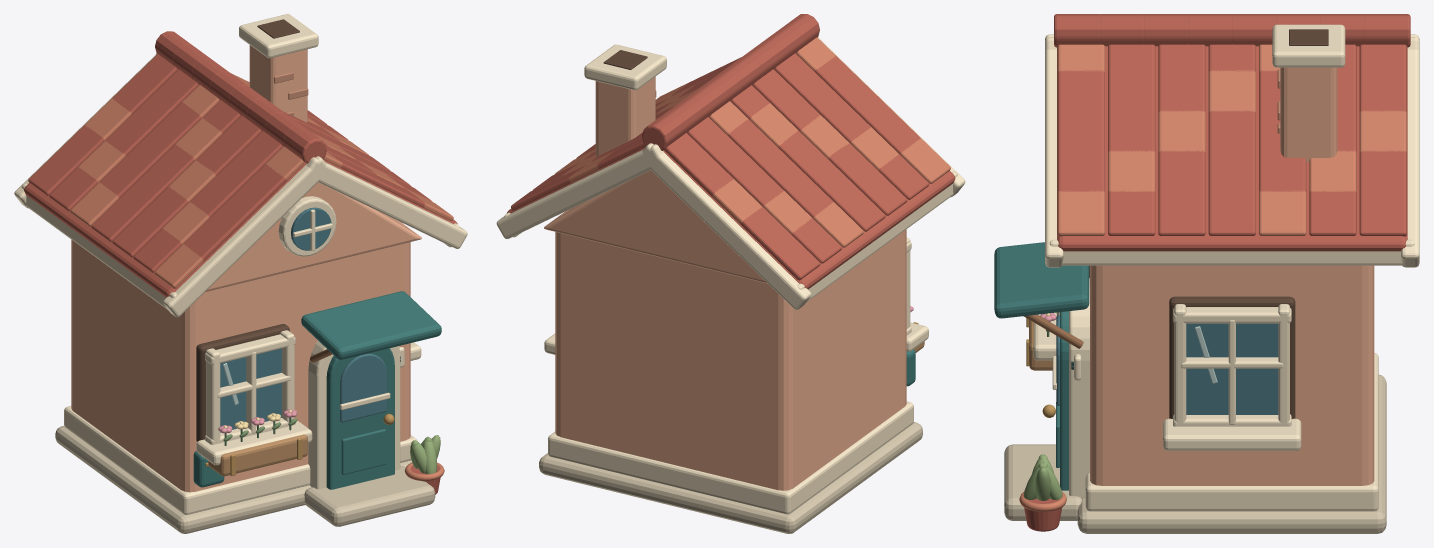
Rendered from house.glb.
3 views of the same model, side by side, from view 1: azimuth 30°, elevation 25°; view 2: azimuth 150°, elevation 25°; view 3: azimuth 270°, elevation 25° (orthographic). The views are drawn at different scales.
Parts seen in each view (by area): view 1: Wall • plaster shell, Gable • plaster triangle, Porch • little canopy, Wall • lower skirting, Foundation • rounded stone plinth, Door • inset painted panel, Roof • cream bargeboard, Door • doorstep, Roof • cream bargeboard.002, Door • stone arch, Chimney • plaster stack, House front window painted glass (+60 smaller); view 2: Wall • plaster shell, Gable • plaster triangle, Wall • lower skirting, Foundation • rounded stone plinth, Roof • cream bargeboard.001, Roof • cream bargeboard.003, Chimney • plaster stack, Roof • thick slope, Chimney • cap, Roof • eave fascia, Roof • shingle -1 4 6, Roof • shingle -1 4 4 (+41 smaller); view 3: Wall • plaster shell, Roof • thick slope.001, Wall • lower skirting, Foundation • rounded stone plinth, House side window painted glass, Porch • little canopy, Chimney • plaster stack, Roof • eave fascia.001, House side window stone sill, Door • stone arch, Roof • cream bargeboard.003, Door • doorstep (+54 smaller).
Part boxes in pixels (x1,y1,x2,y2): Wall • plaster shell: (71,220,410,492); Gable • plaster triangle: (205,182,421,291); Porch • little canopy: (301,291,441,359); Wall • lower skirting: (64,406,417,514); Foundation • rounded stone plinth: (55,426,411,533); Door • inset painted panel: (326,348,394,489); Roof • cream bargeboard: (163,156,327,317); Door • doorstep: (304,466,435,526); Roof • cream bargeboard.002: (306,157,467,248); Door • stone arch: (308,340,400,489); Chimney • plaster stack: (249,45,307,122); House front window painted glass: (220,348,281,432); Wall • plaster shell: (555,210,906,490); Gable • plaster triangle: (544,170,767,283); Wall • lower skirting: (548,401,913,514); Foundation • rounded stone plinth: (539,422,922,533); Roof • cream bargeboard.001: (641,143,811,309); Roof • cream bargeboard.003: (496,144,663,238); Chimney • plaster stack: (595,76,655,156); Roof • thick slope: (663,150,955,289); Chimney • cap: (584,44,666,90); Roof • eave fascia: (797,171,957,302); Roof • shingle -1 4 6: (769,234,820,280); Roof • shingle -1 4 4: (813,202,863,247); Wall • plaster shell: (1090,265,1374,485); Roof • thick slope.001: (1057,46,1407,251); Wall • lower skirting: (1085,353,1378,511); Foundation • rounded stone plinth: (1077,374,1386,533); House side window painted glass: (1186,323,1278,414); Porch • little canopy: (994,242,1089,318); Chimney • plaster stack: (1280,67,1337,162); Roof • eave fascia.001: (1049,239,1414,265); House side window stone sill: (1163,418,1301,450); Door • stone arch: (1069,278,1089,498); Roof • cream bargeboard.003: (1401,34,1419,267); Door • doorstep: (1004,444,1081,520).
Size of the model in its own units: 3.38 by 4.19 by 3.44.
